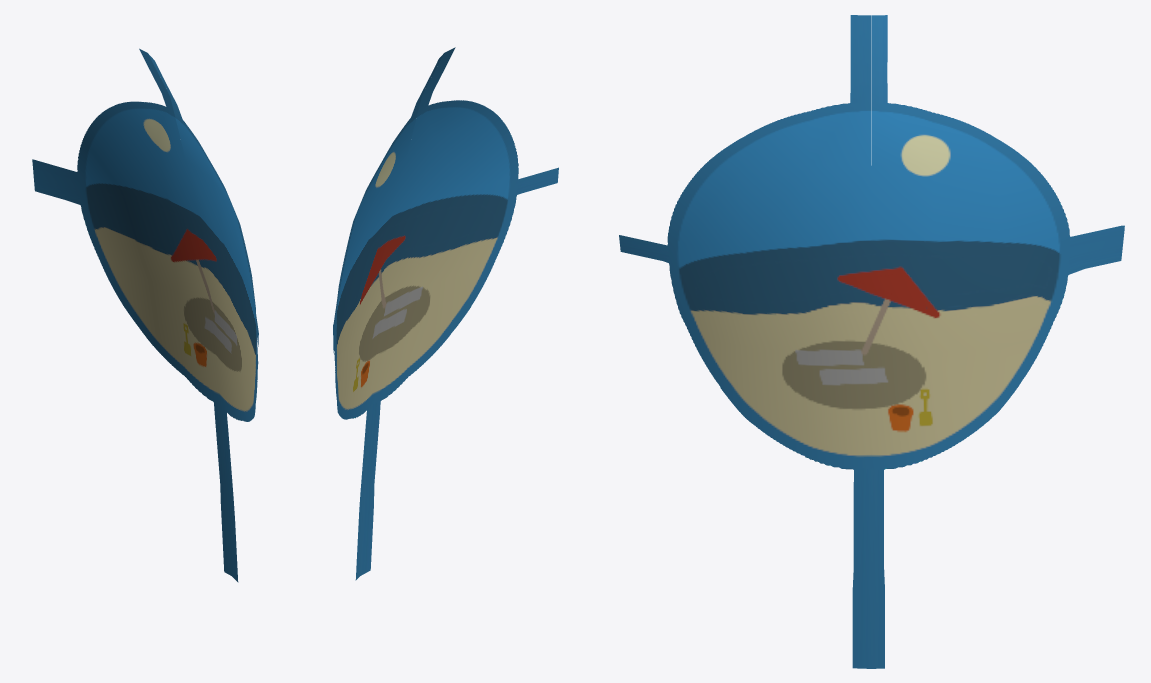
Rendered from Beach_001.fbx.
The picture shows the model from 3 angles, left to right: view 1: azimuth 30°, elevation 25°; view 2: azimuth 150°, elevation 25°; view 3: azimuth 270°, elevation 25°; orthographic projection. The views are drawn at different scales.
Visible parts, largest first — view 1: Beach.001; view 2: Beach.001; view 3: Beach.001.
Part boxes in pixels (x1,y1,x2,y2): Beach.001: (32, 48, 258, 582); Beach.001: (333, 47, 558, 580); Beach.001: (619, 15, 1124, 668).
Size of the model in its own units: 15 by 71.33 by 56.36.
